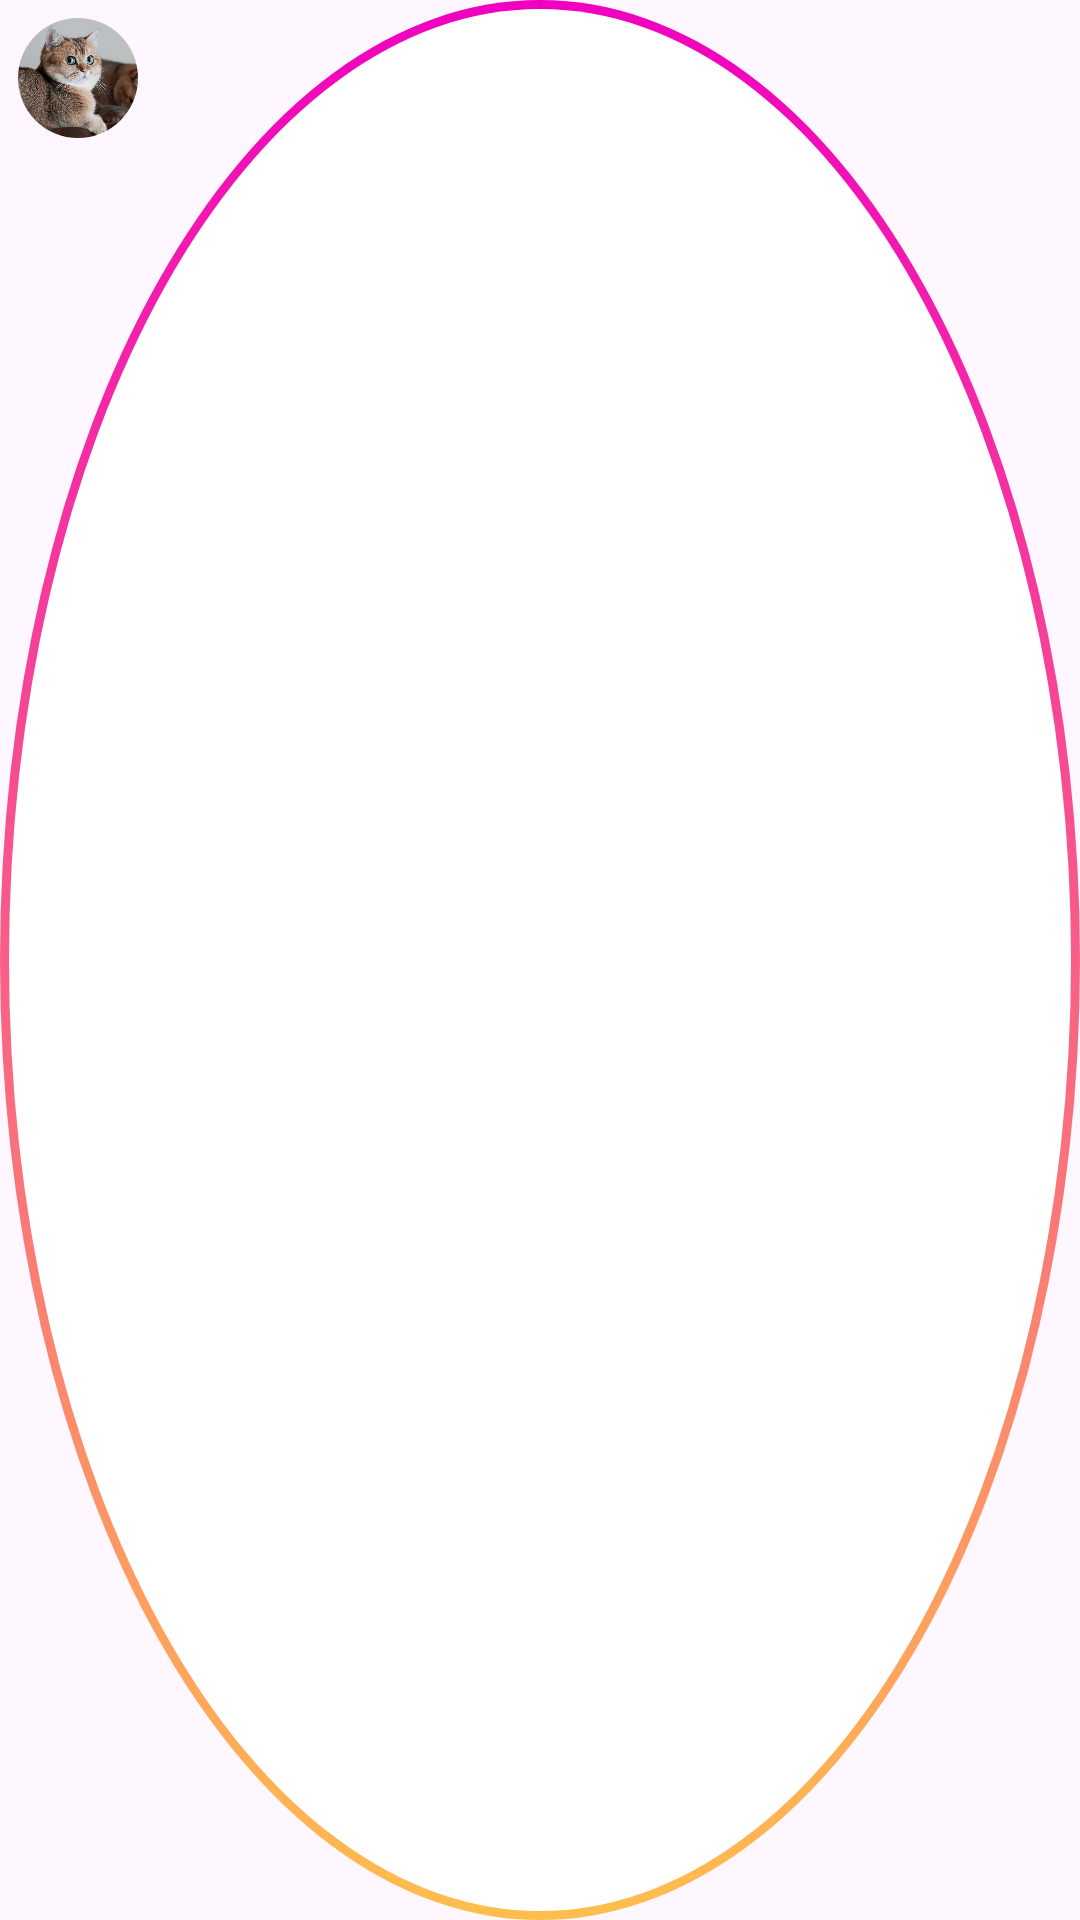

Screen size 1080×1920. Icon name, then its box in pixels as (x1, y1, x2, y2):
cat: (18, 18, 138, 138)
